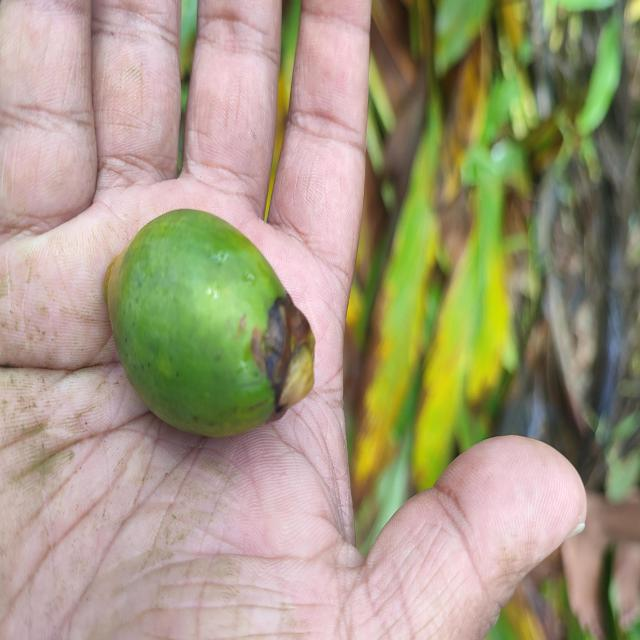damaged: (101, 207, 317, 442)
